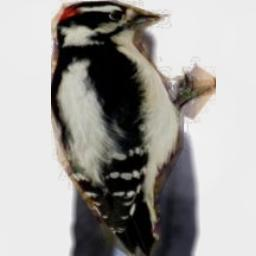Woodpecker: (51, 0, 216, 256)
